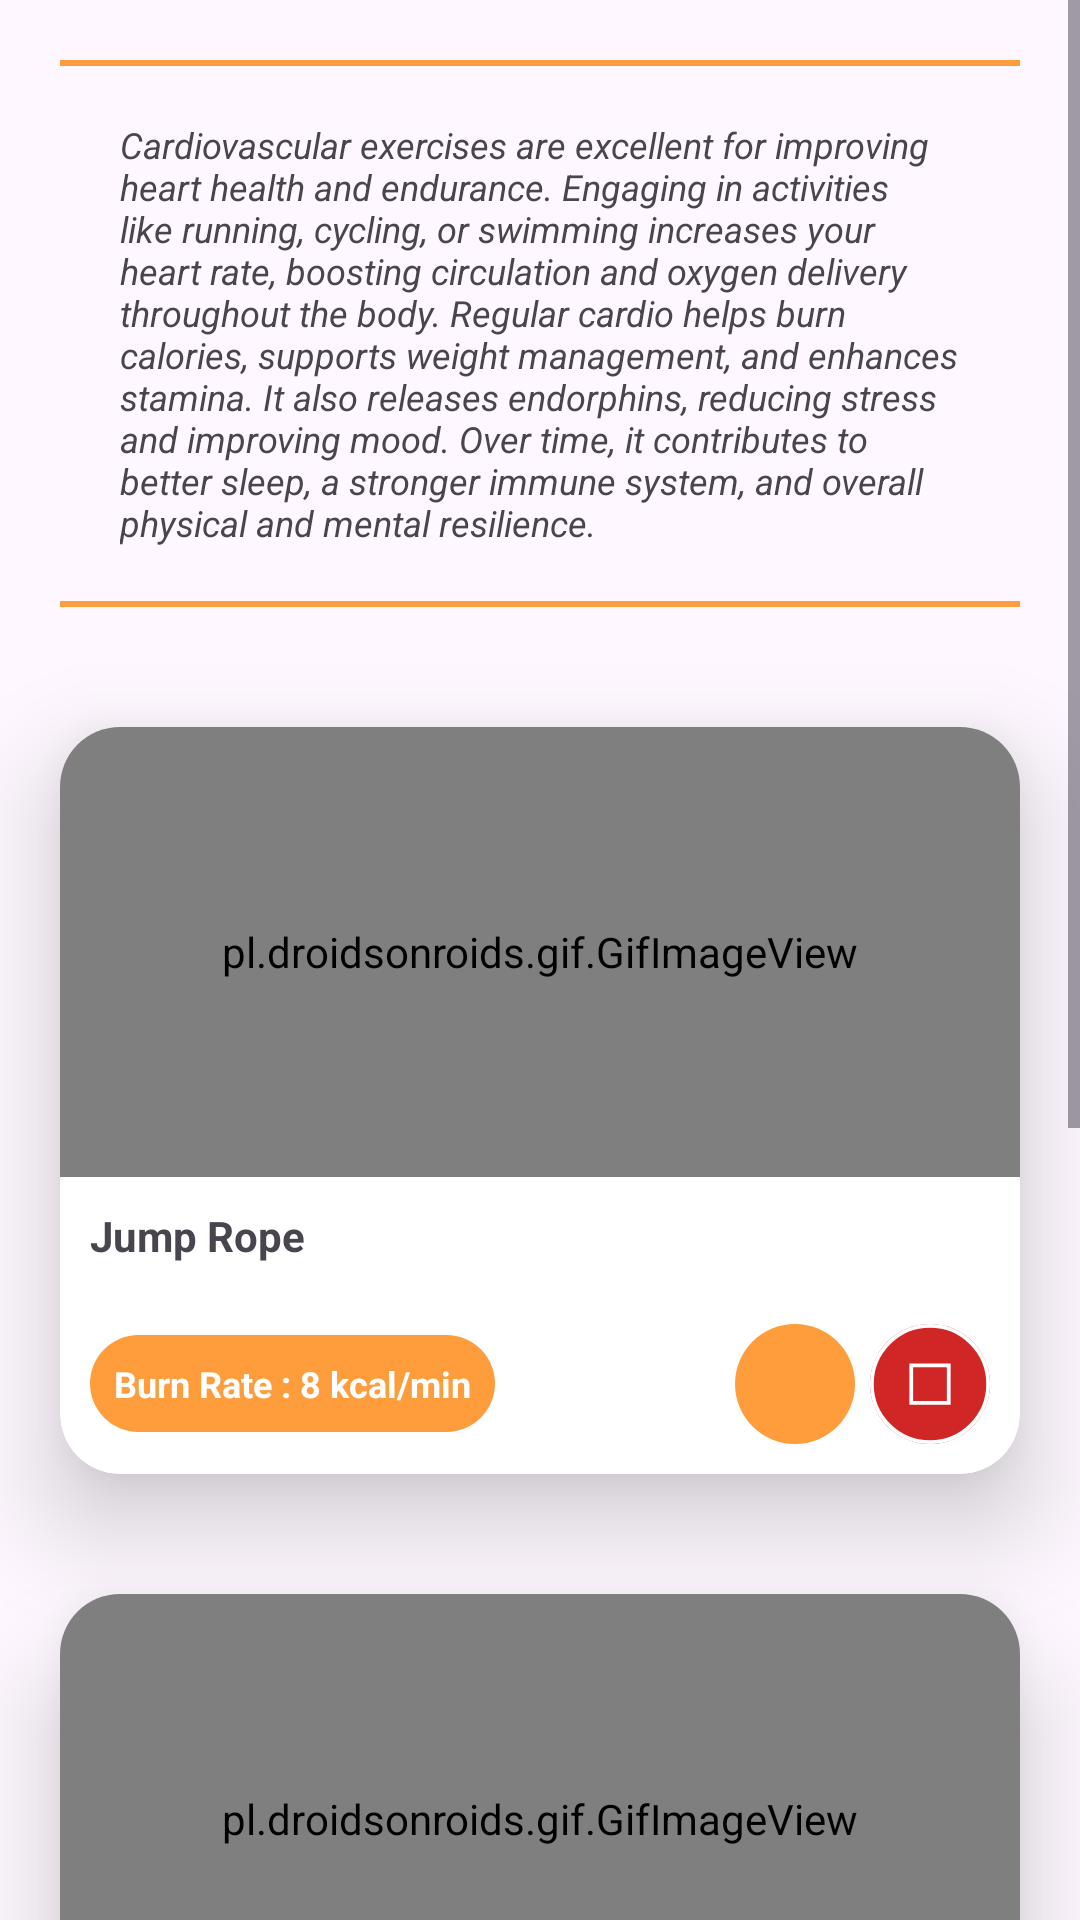

Icon click points for this 1080x1920 phone screenshot, format (x,y):
stop: (930,1384)
